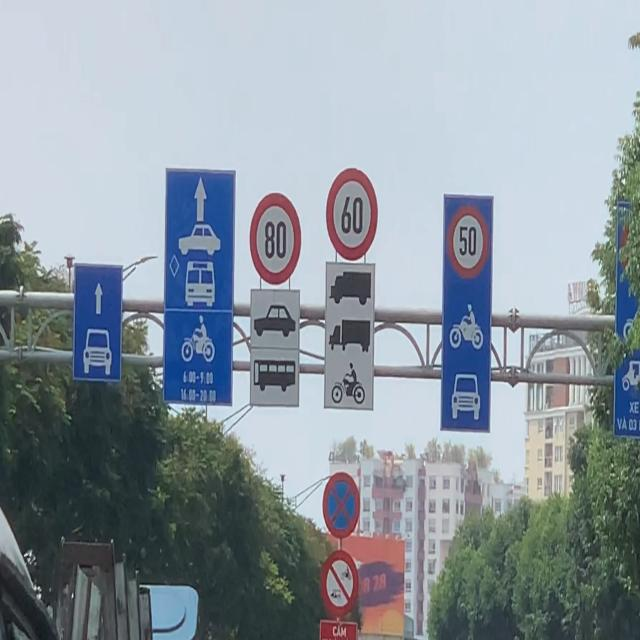Cam dung va do: (322, 472, 360, 539)
Toc do toi da: (325, 168, 379, 262), (249, 192, 302, 286), (447, 202, 489, 280)
